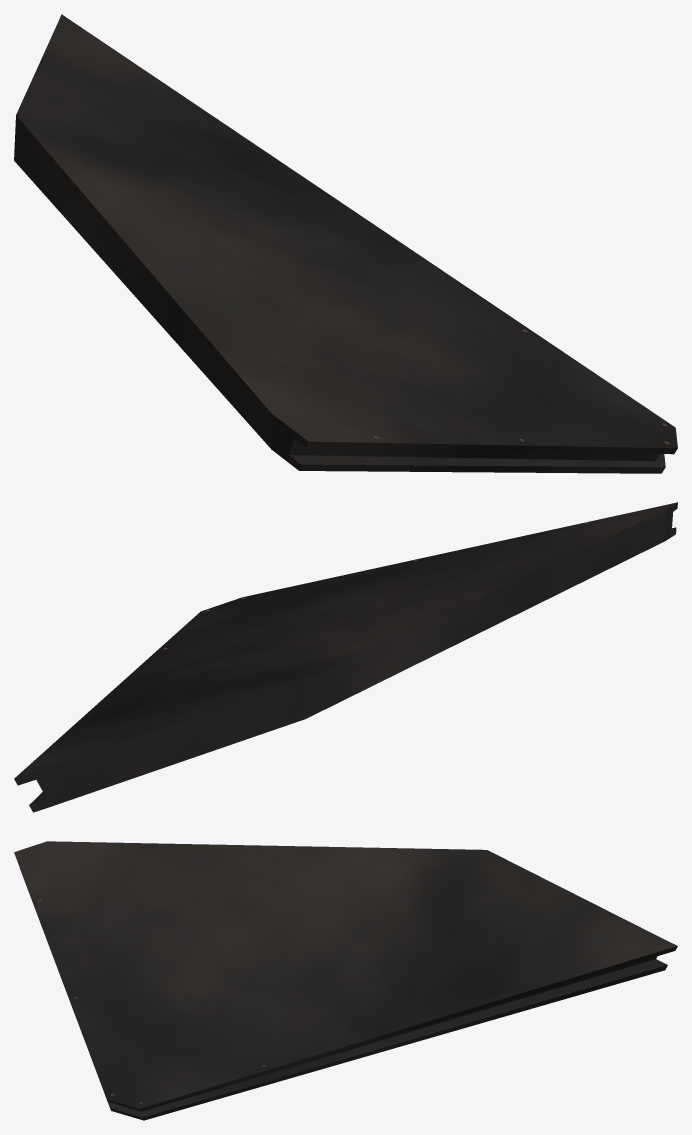
File: e_port_underwing_d_model.fbx
3 renders of one model, top to bottom at view 1: azimuth 30°, elevation 25°; view 2: azimuth 150°, elevation 25°; view 3: azimuth 270°, elevation 25°, orthographic. The views are drawn at different scales.
Visible parts, largest first — view 1: polySurface23; view 2: polySurface23; view 3: polySurface23.
Boxes of the visible parts, left/top/right/bottom form: polySurface23: left=14, top=14, right=677, bottom=473; polySurface23: left=14, top=502, right=677, bottom=812; polySurface23: left=14, top=841, right=677, bottom=1120.
Bounding box in the file's own units: 4322 × 2044 × 8094.
2 materials, 1 textured.
